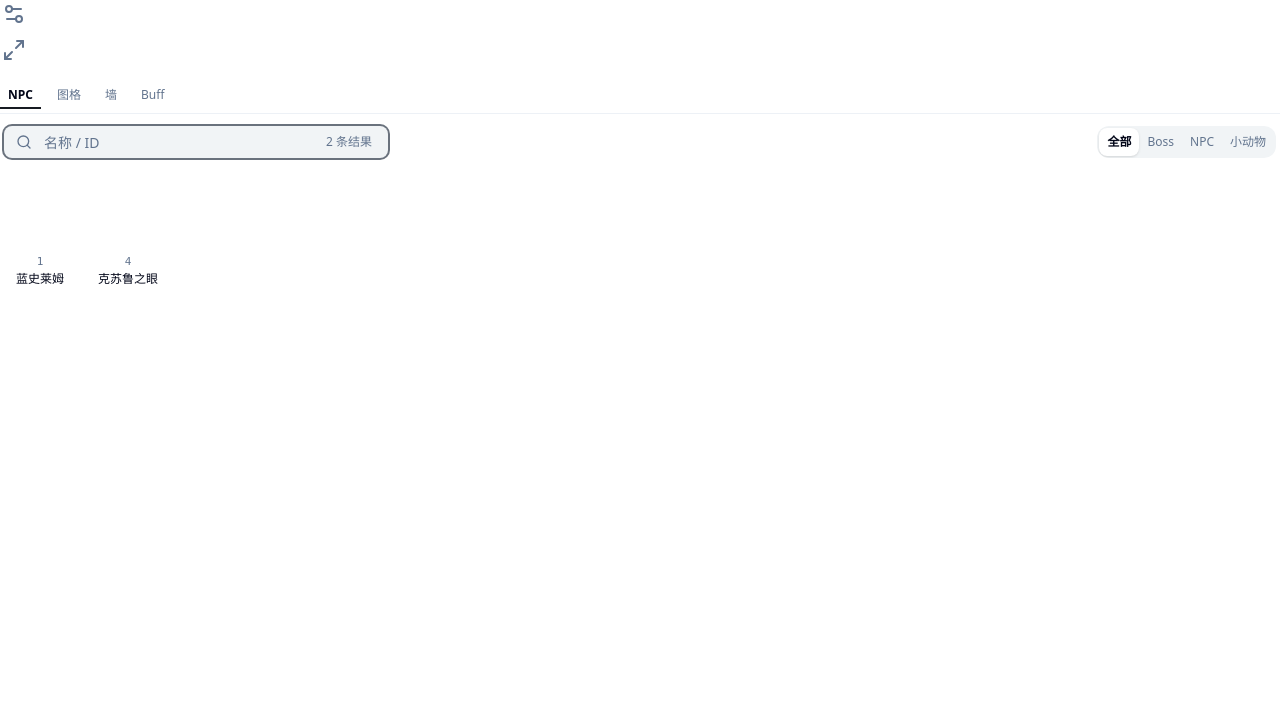
Test: DataIdPage › 全屏时隐藏搜索和 Tabs，只保留页面设置 / 退出按钮，图标铺满水平宽度
The image size is (1280, 720).
Step 1. Click the button named "全屏查看结果" → (14,50), box [0,36,28,64]
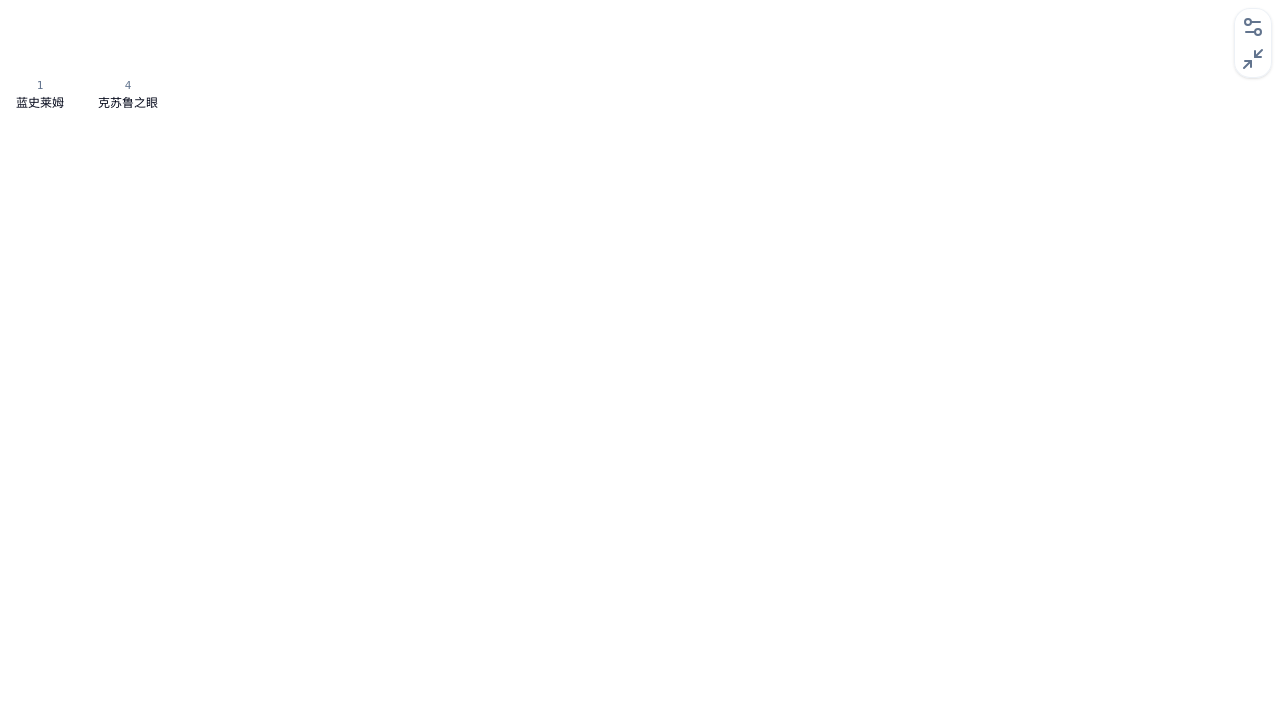
Expected: the button named "页面设置" is shown, [1239,13,1267,41]
Now the button named "退出全屏" is shown, box [1239,45,1267,73]
Step 2. Press Escape
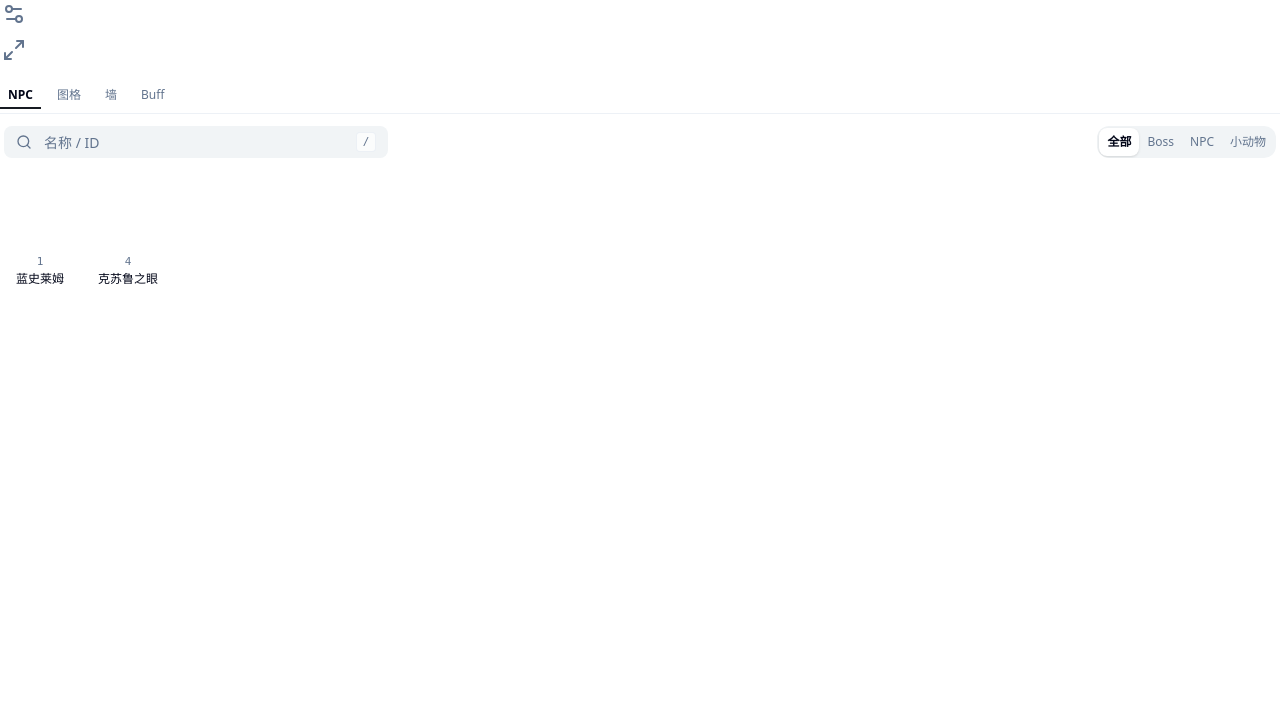
Now the element named "NPC / 图格 / 墙 / Buff" is shown, box [0,78,1279,114]
